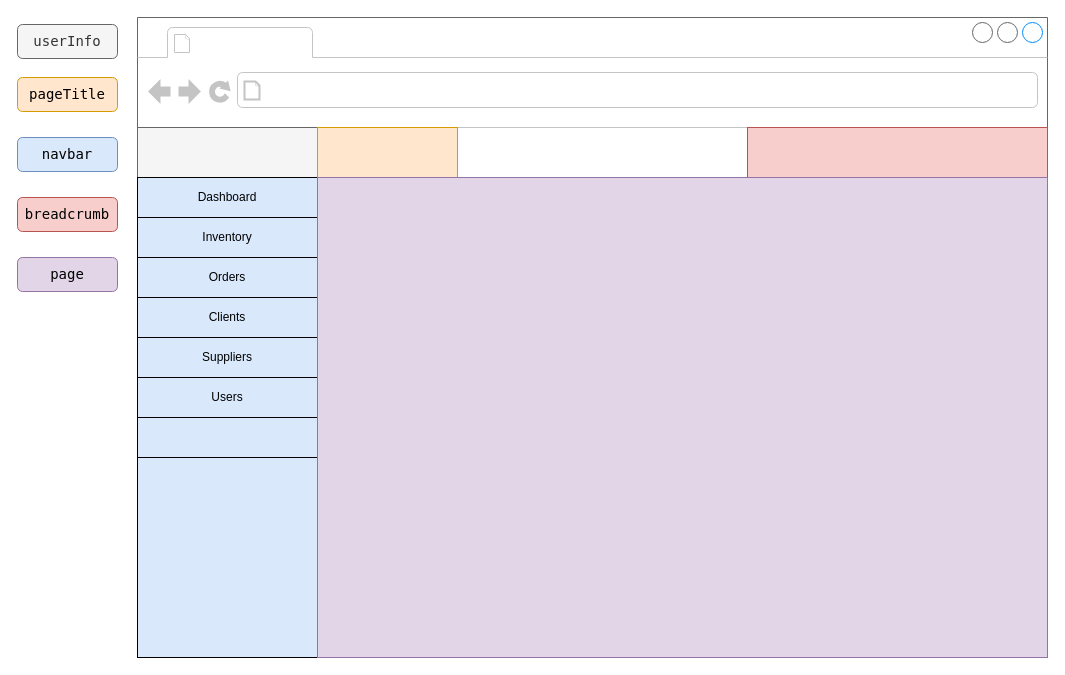
Image size: 1065x675. Some labels were removed from this diagram. The shapes that lost their labels are listed below. From the top down, each one's box as (x1, y1, x2, y2) in pixels, then its label:
(196, 28, 308, 56): Hero
(266, 76, 518, 104): https://localhost:8080/inventory
(136, 126, 318, 178): User's Info
(316, 126, 458, 178): Page Title
(746, 126, 1048, 178): Layer 1 > Layer 2 > Layer 3 > Layer4
